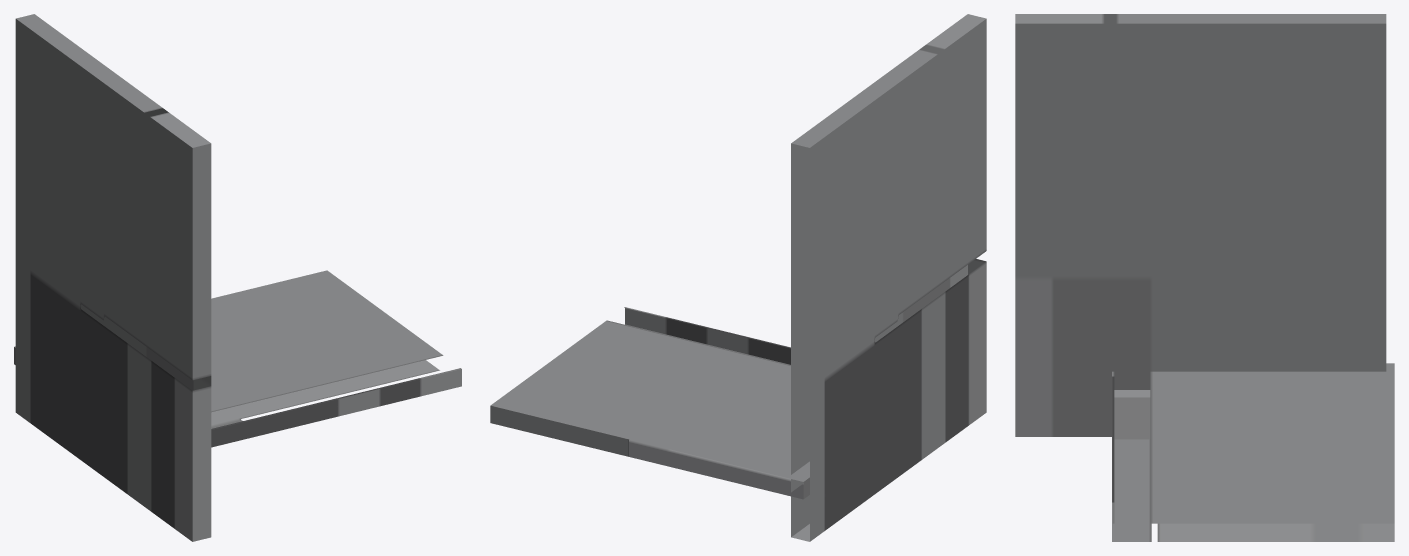
3 views of the same model, side by side, from view 1: azimuth 30°, elevation 25°; view 2: azimuth 150°, elevation 25°; view 3: azimuth 270°, elevation 25° (orthographic). The views are drawn at different scales.
Size of the model in its own units: 0.9601 by 1.15 by 0.9529.
